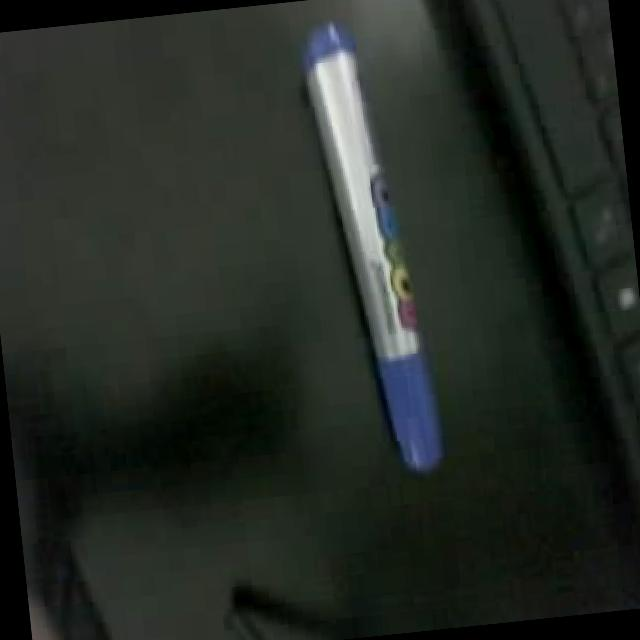board-marker: (304, 21, 441, 470)
